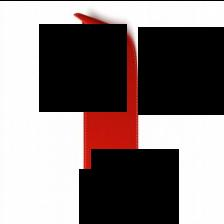red: (74, 11, 147, 206)
